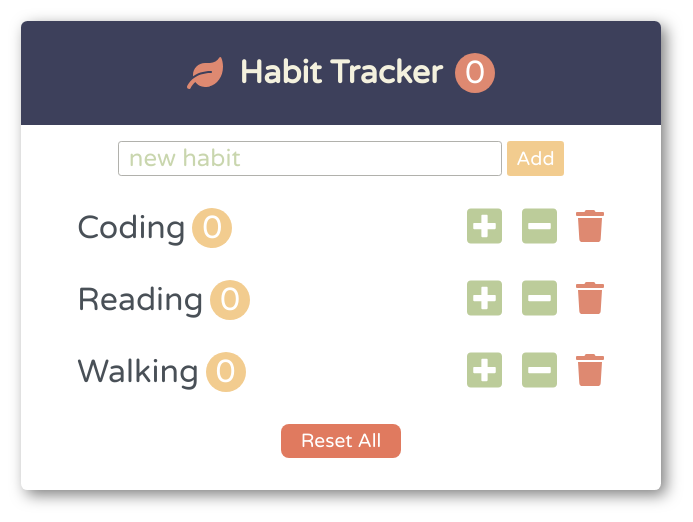
Habit Tracker › shows active count on the header
Click the button titled "increase" in the row of "Coding". click: click(485, 228)
box: [461, 204, 508, 251]
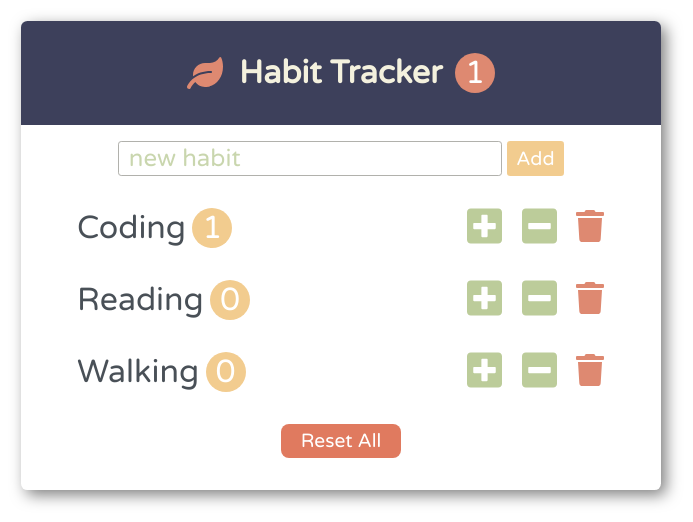
Click the button titled "increase" in the row of "Walking". click: click(485, 372)
box: [461, 348, 508, 395]
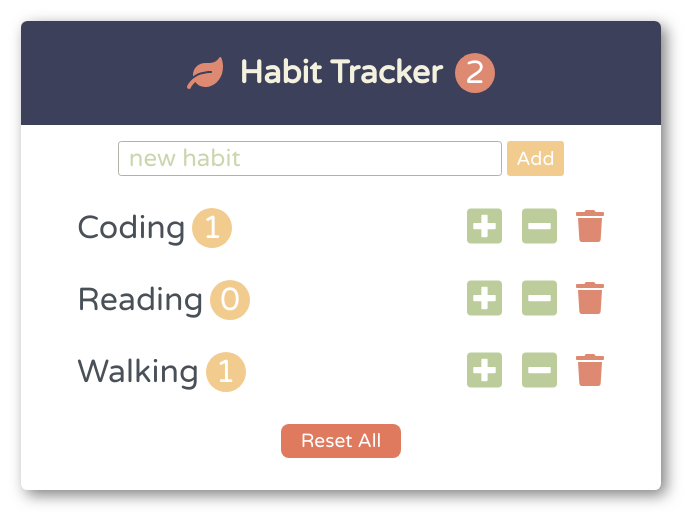
Expected: the text with test id "total-count" reads "2", [455, 53, 495, 93]
